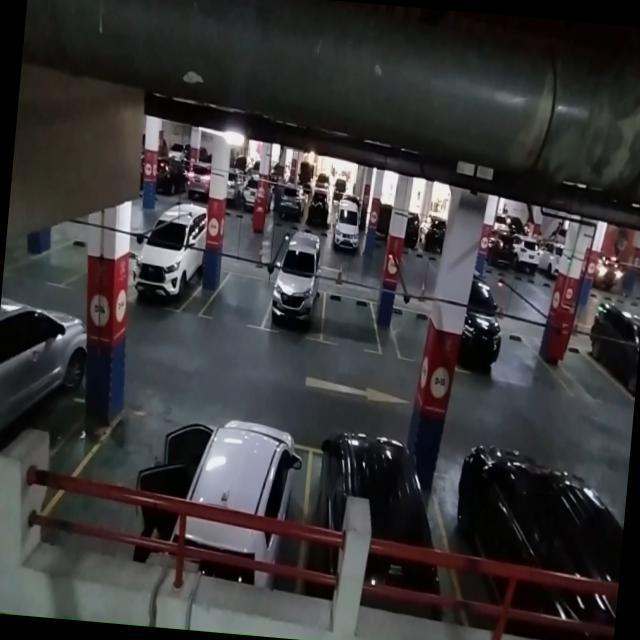empty: (56, 402, 194, 562), (196, 268, 274, 332), (319, 288, 386, 354), (386, 304, 431, 362)
occupied: (297, 428, 452, 606), (170, 415, 314, 589), (130, 208, 208, 316), (264, 246, 330, 342)
